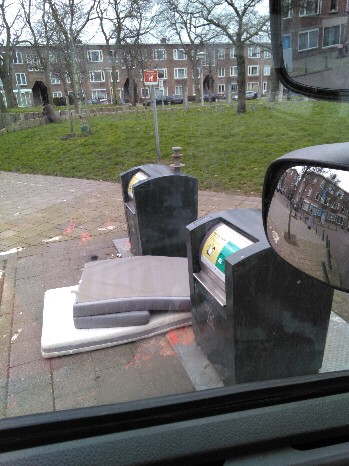Container: (193, 218, 321, 370), (122, 163, 203, 250)
Rest: (58, 250, 179, 343)
